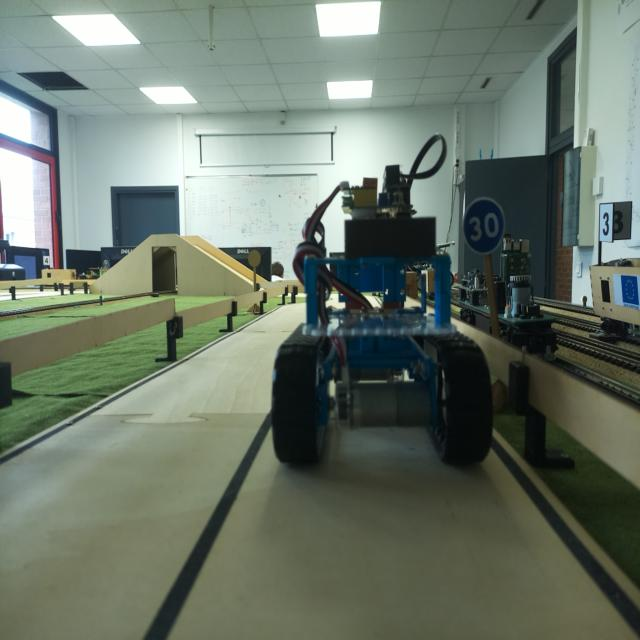obstacle_voiture: (276, 184, 486, 473)
panneau-limitation30: (463, 194, 502, 252)
